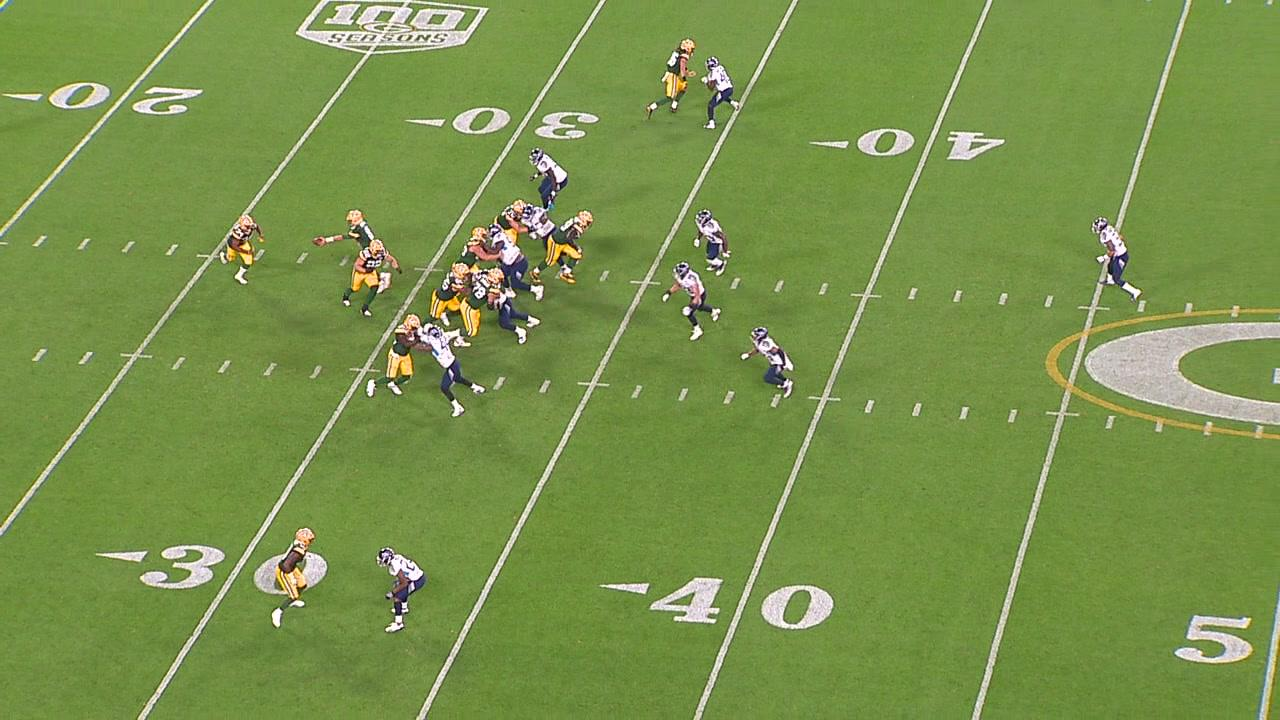defense: (410, 325, 487, 419), (479, 222, 547, 303), (471, 270, 541, 347), (1088, 214, 1146, 305), (662, 259, 722, 346), (375, 545, 428, 638), (739, 324, 800, 402), (520, 202, 569, 274), (699, 55, 742, 131), (526, 146, 570, 214), (690, 207, 732, 278)
oline: (441, 267, 508, 349), (529, 209, 597, 286), (421, 262, 474, 326), (450, 224, 504, 276), (492, 198, 535, 246)
qb: (311, 205, 395, 296)
skill: (266, 524, 319, 630), (365, 312, 424, 400), (338, 239, 402, 320), (644, 37, 699, 123), (216, 213, 267, 287)
